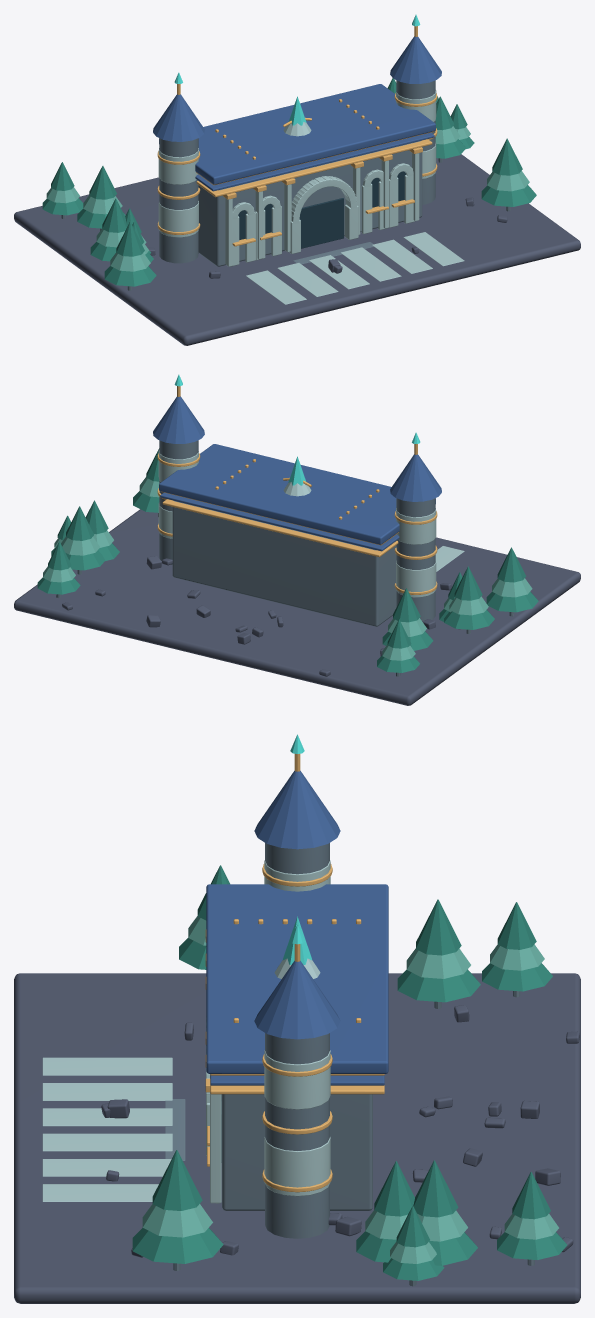
The model's file is NW_ParametricSanctuary_Batched.fbx.
3 renders of one model, top to bottom at view 1: azimuth 30°, elevation 25°; view 2: azimuth 150°, elevation 25°; view 3: azimuth 270°, elevation 25°, orthographic. The views are drawn at different scales.
Parts seen in each view (by area): view 1: NW_ExportBatch_NW_Basalt, NW_ExportBatch_NW_Frosted_Masonry, NW_ExportBatch_NW_Deep_Azure, NW_ExportBatch_NW_Slate_Stone, NW_ExportBatch_NW_Foliage_Emerald, NW_ExportBatch_NW_Ember_Gold, NW_ExportBatch_NW_Foliage_Silver, NW_ExportBatch_NW_Dark_Recess; view 2: NW_ExportBatch_NW_Basalt, NW_ExportBatch_NW_Slate_Stone, NW_ExportBatch_NW_Deep_Azure, NW_ExportBatch_NW_Foliage_Emerald, NW_ExportBatch_NW_Frosted_Masonry, NW_ExportBatch_NW_Foliage_Silver, NW_ExportBatch_NW_Ember_Gold; view 3: NW_ExportBatch_NW_Basalt, NW_ExportBatch_NW_Deep_Azure, NW_ExportBatch_NW_Frosted_Masonry, NW_ExportBatch_NW_Foliage_Emerald, NW_ExportBatch_NW_Slate_Stone, NW_ExportBatch_NW_Foliage_Silver, NW_ExportBatch_NW_Ember_Gold, NW_ExportBatch_NW_Arcane_Cyan.
Part boxes in pixels (x1,y1,x2,y2): NW_ExportBatch_NW_Basalt: (14,154,580,345); NW_ExportBatch_NW_Frosted_Masonry: (158,90,464,304); NW_ExportBatch_NW_Deep_Azure: (153,36,441,191); NW_ExportBatch_NW_Slate_Stone: (61,80,510,290); NW_ExportBatch_NW_Foliage_Emerald: (42,78,536,286); NW_ExportBatch_NW_Ember_Gold: (157,26,437,246); NW_ExportBatch_NW_Foliage_Silver: (46,126,529,271); NW_ExportBatch_NW_Dark_Recess: (238,171,405,248); NW_ExportBatch_NW_Basalt: (14,509,580,705); NW_ExportBatch_NW_Slate_Stone: (56,440,513,676); NW_ExportBatch_NW_Deep_Azure: (153,396,441,551); NW_ExportBatch_NW_Foliage_Emerald: (37,448,538,672); NW_ExportBatch_NW_Frosted_Masonry: (158,450,464,597); NW_ExportBatch_NW_Foliage_Silver: (43,477,532,660); NW_ExportBatch_NW_Ember_Gold: (157,386,437,594); NW_ExportBatch_NW_Basalt: (14,973,580,1303); NW_ExportBatch_NW_Deep_Azure: (206,770,388,1085); NW_ExportBatch_NW_Frosted_Masonry: (42,860,330,1203); NW_ExportBatch_NW_Foliage_Emerald: (132,865,567,1280); NW_ExportBatch_NW_Slate_Stone: (165,843,534,1286); NW_ExportBatch_NW_Foliage_Silver: (142,916,558,1263); NW_ExportBatch_NW_Ember_Gold: (205,754,384,1192); NW_ExportBatch_NW_Arcane_Cyan: (283,734,311,964).
Size of the model in its own units: 3088 by 1348 by 2180.
